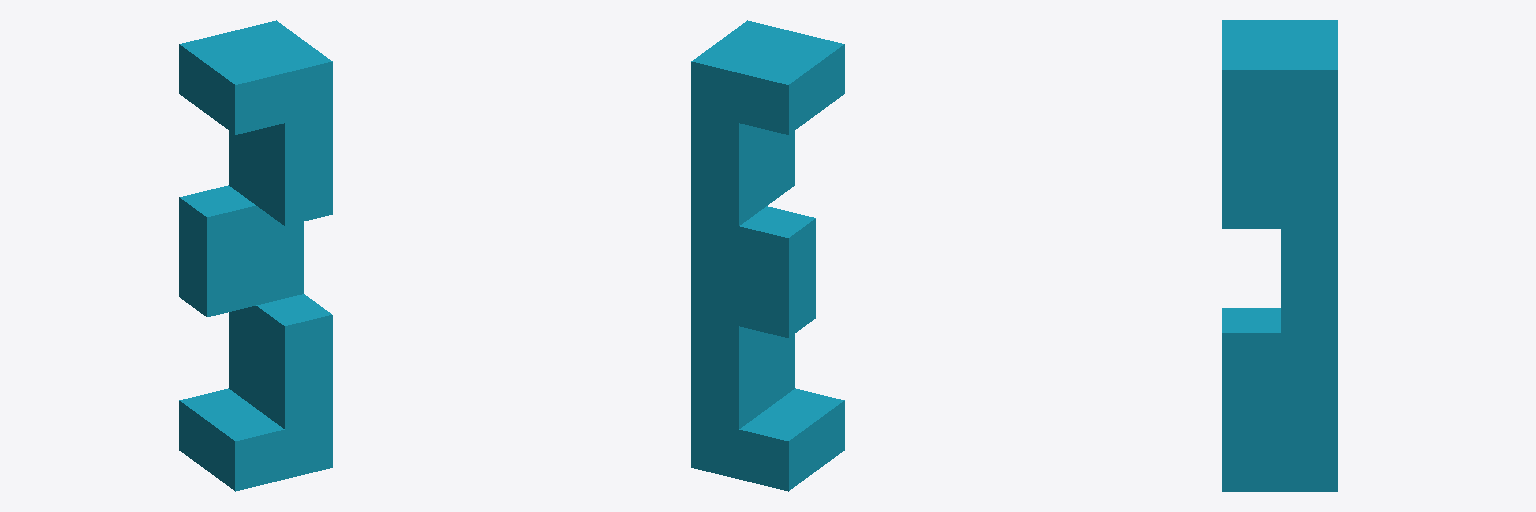
robot.urdf — obj_5:
<robot name="obj_5" version="1.0">
  <link name="obj_5">
    <collision name="interlocking-puzzle-3-1-collision.001">
      <origin rpy="-1.57080 -1.57080 0.00000" xyz="-0.33768 0.49433 0.04298"/>
      <geometry>
        <mesh filename="../meshes/obj/Cube.002.obj" scale="1.98739 2.09740 2.09740"/>
      </geometry>
    </collision>
    <collision name="interlocking-puzzle-3-1-collision.002">
      <origin rpy="-1.57080 1.57080 0.00000" xyz="-0.29777 0.49433 0.15934"/>
      <geometry>
        <mesh filename="../meshes/obj/Cube.003.obj" scale="2.13924 2.09740 2.09740"/>
      </geometry>
    </collision>
    <collision name="interlocking-puzzle-3-1-collision.003">
      <origin rpy="-1.57080 0.00000 1.57080" xyz="-0.29777 0.53424 0.31742"/>
      <geometry>
        <mesh filename="../meshes/obj/Cube.004.obj" scale="2.09740 2.09076 2.09740"/>
      </geometry>
    </collision>
    <collision name="interlocking-puzzle-3-1-collision.004">
      <origin rpy="-1.57080 -0.00000 -1.57080" xyz="-0.37642 0.53424 0.31885"/>
      <geometry>
        <mesh filename="../meshes/obj/Cube.006.obj" scale="2.09740 2.09740 2.09740"/>
      </geometry>
    </collision>
    <collision name="interlocking-puzzle-3-1-collision.005">
      <origin rpy="1.57080 0.00000 -1.57080" xyz="-0.29777 0.49433 0.51489"/>
      <geometry>
        <mesh filename="../meshes/obj/Cube.007.obj" scale="2.09740 2.09740 2.09740"/>
      </geometry>
    </collision>
    <collision name="interlocking-puzzle-3-1-collision.006">
      <origin rpy="-1.57080 -1.57080 0.00000" xyz="-0.37642 0.49433 0.59473"/>
      <geometry>
        <mesh filename="../meshes/obj/Cube.008.obj" scale="2.09740 2.08293 2.09740"/>
      </geometry>
    </collision>
    <inertial>
      <inertia ixx="0.00515" ixy="0.00000" ixz="-0.00000" iyy="0.00517" iyz="0.00000" izz="0.00049"/>
      <origin rpy="0.00000 0.00000 0.00000" xyz="-0.32152 0.50217 0.31885"/>
      <mass value="0.03000"/>
    </inertial>
    <visual name="interlocking-puzzle-3-1">
      <material name="Light Blue"/>
      <origin rpy="1.57080 -1.57080 0.00000" xyz="-0.34777 0.49456 0.31885"/>
      <geometry>
        <mesh filename="../meshes/obj/interlocking-puzzle-3.obj" scale="0.01049 0.01049 0.01049"/>
      </geometry>
    </visual>
  </link>
  <material name="Light Blue">
    <color rgba="0.15294 0.68627 0.80000 1.00000"/>
  </material>
</robot>

--- Render facts (derived) ---
The picture shows the robot from 3 angles, left to right: view 1: azimuth 30°, elevation 25°; view 2: azimuth 150°, elevation 25°; view 3: azimuth 270°, elevation 25°; orthographic projection.
Model obj_5 with 1 links and 0 joints (none), rooted at obj_5, posed all joints at 0.
Links seen in each view (by area): view 1: obj_5; view 2: obj_5; view 3: obj_5.
Boxes of the visible links, <box> form: obj_5: <box>179,20,332,491</box>; obj_5: <box>691,20,844,491</box>; obj_5: <box>1222,20,1337,491</box>.
Size in the robot's own frame: 0.1574 by 0.1574 by 0.6294 metres.
Meshes: 1 distinct files referenced, 1 mesh visuals loaded (1 OBJ).